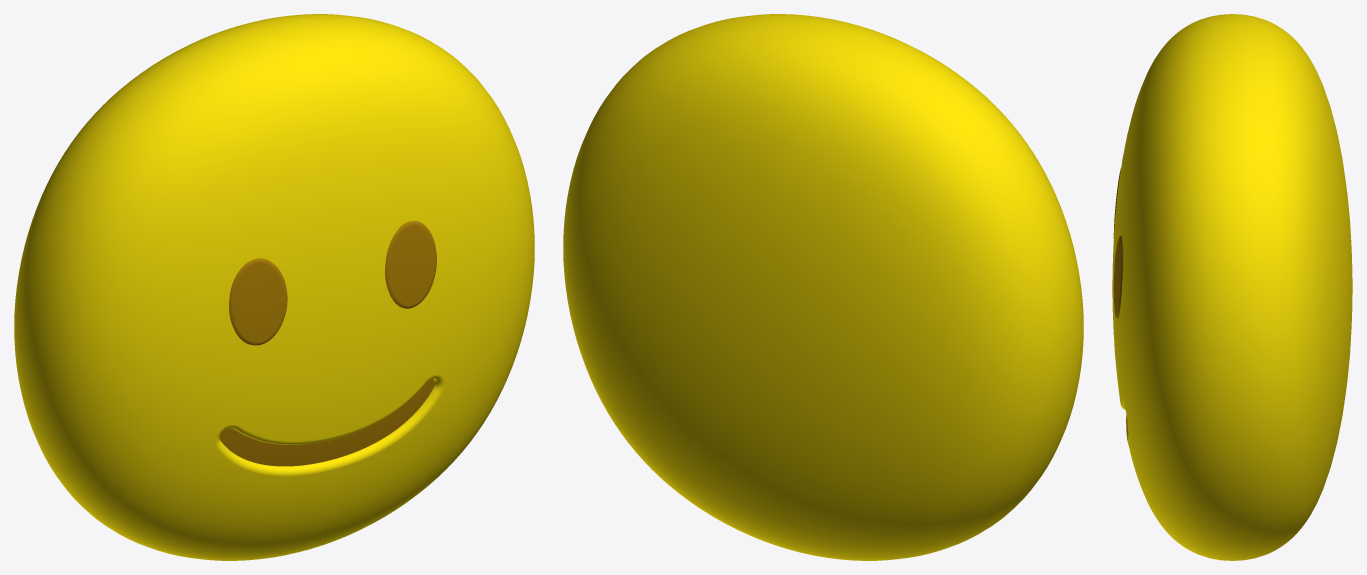
3 views of the same model, side by side, from view 1: azimuth 30°, elevation 25°; view 2: azimuth 150°, elevation 25°; view 3: azimuth 270°, elevation 25° (orthographic). The views are drawn at different scales.
Parts seen in each view (by area): view 1: 003_SmileEmoji3; view 2: 003_SmileEmoji3; view 3: 003_SmileEmoji3.
Part boxes in pixels (left/top/right/bottom): 003_SmileEmoji3: left=14, top=14, right=534, bottom=560; 003_SmileEmoji3: left=563, top=14, right=1083, bottom=560; 003_SmileEmoji3: left=1112, top=14, right=1352, bottom=560.
Size of the model in its own units: 0.1561 by 0.1561 by 0.0696.
